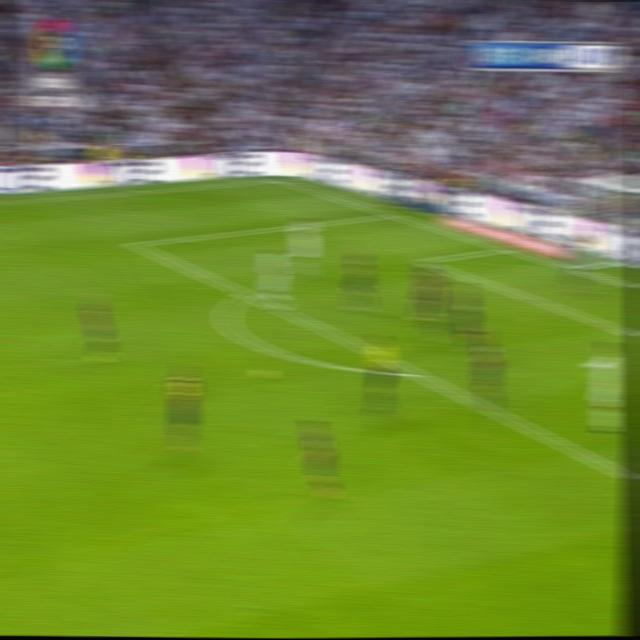bigarea_bottom_outter: (235, 285, 255, 302)
bottom_arc_area_intersection: (404, 362, 424, 381)
corner: (270, 173, 287, 185)
top_arc_area_intersection: (235, 284, 255, 302)
